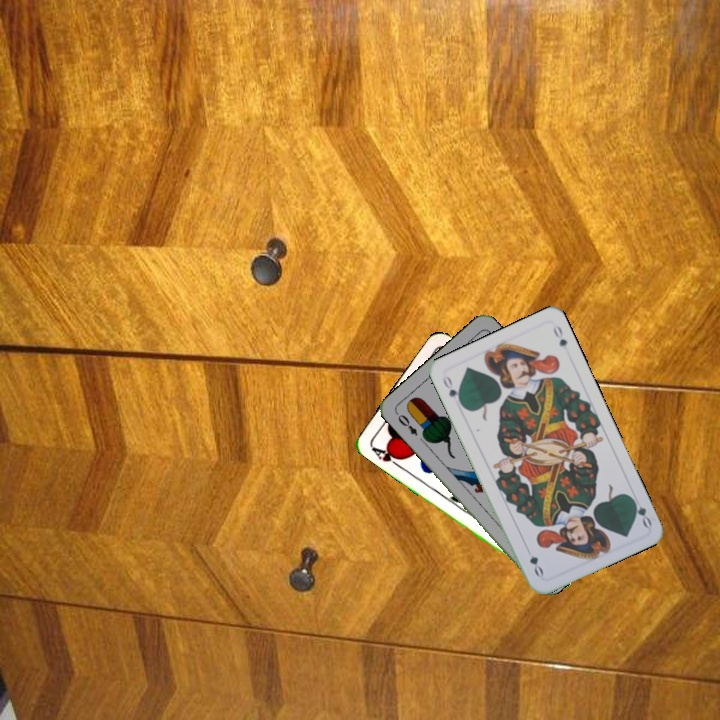EO: (392, 408, 420, 438)
GO: (627, 491, 655, 530), (439, 371, 465, 408)
HA: (367, 442, 405, 470)
